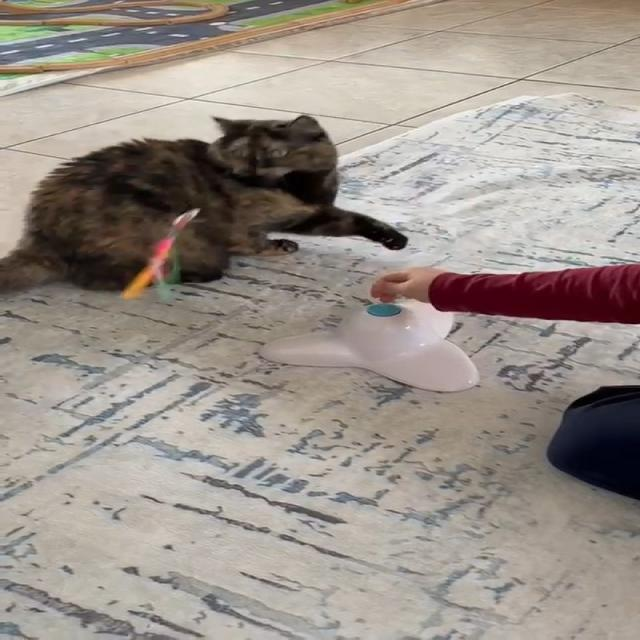authorized: (0, 113, 408, 295)
